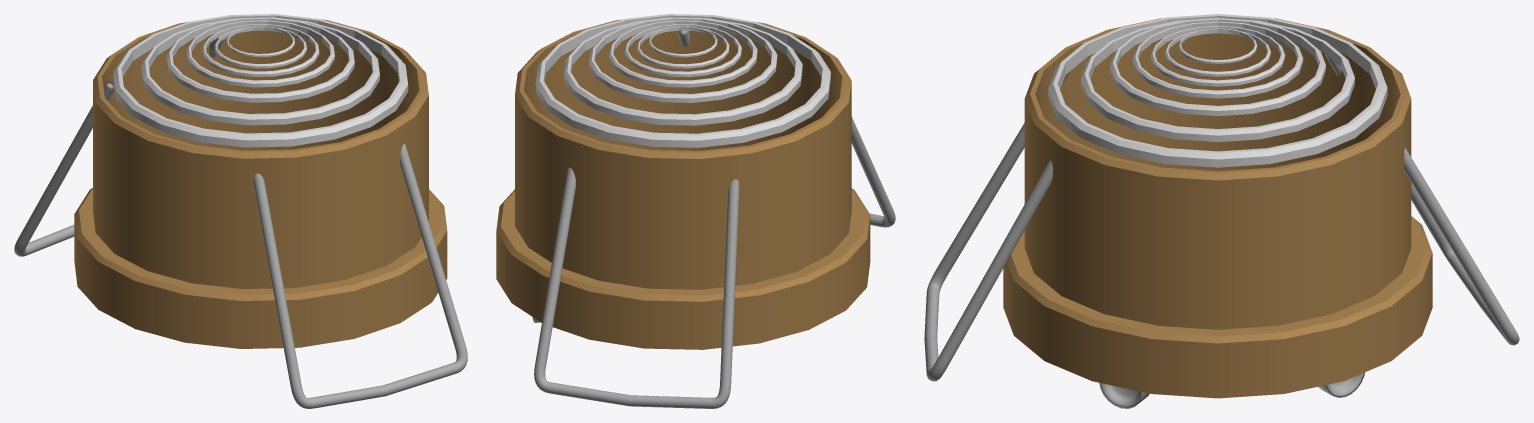
File: Fan.fbx
The picture shows the model from 3 angles, left to right: view 1: azimuth 30°, elevation 25°; view 2: azimuth 150°, elevation 25°; view 3: azimuth 270°, elevation 25°; orthographic projection. The views are drawn at different scales.
Parts seen in each view (by area): view 1: Fan, Stand; view 2: Fan, Stand; view 3: Fan, Stand, Tyres.
Part boxes in pixels (x1,y1,x2,y2): Fan: (74, 19, 447, 348); Stand: (14, 14, 467, 408); Fan: (496, 19, 870, 349); Stand: (534, 14, 895, 408); Fan: (1003, 18, 1432, 398); Stand: (924, 14, 1519, 381); Tyres: (1099, 372, 1364, 408).
Bounding box in the file's own units: 1494 × 1157 × 2071.
